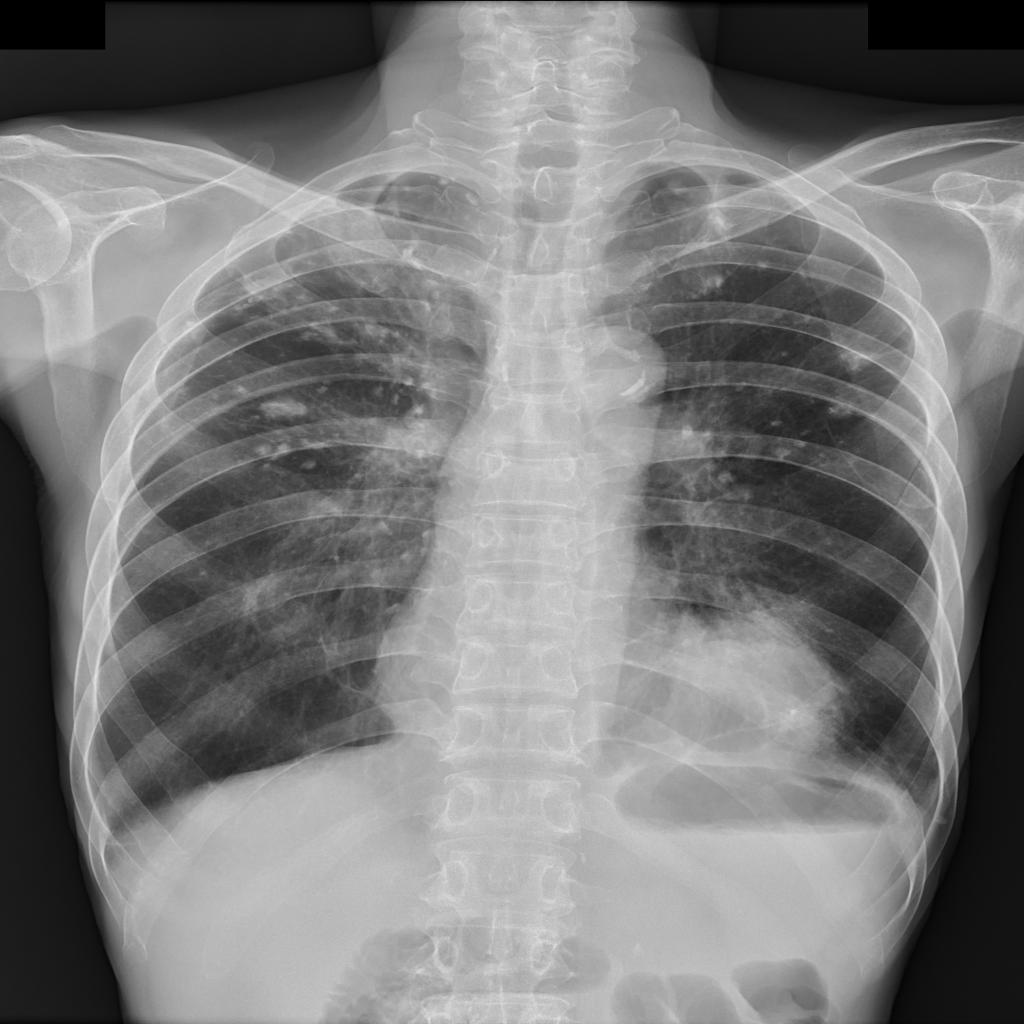Nodule: (663, 611, 857, 756)
